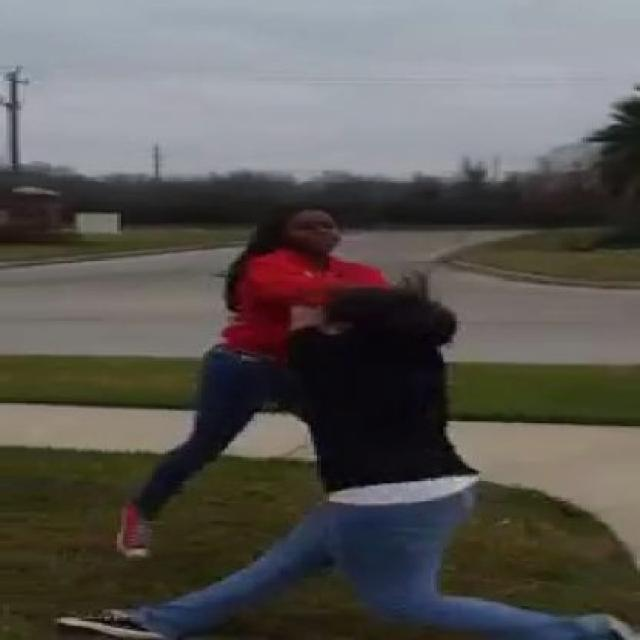fight: (108, 201, 483, 637)
